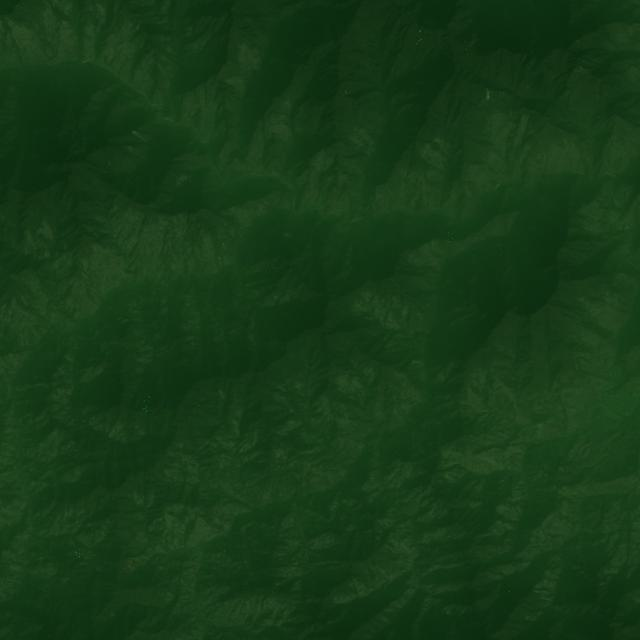landslides: (572, 334, 598, 353), (131, 130, 154, 143), (478, 143, 489, 159), (536, 356, 549, 369), (123, 158, 137, 168), (469, 252, 479, 264), (349, 191, 361, 201), (587, 57, 604, 64), (92, 94, 100, 108), (525, 615, 541, 622), (529, 44, 540, 54), (527, 156, 537, 166)
